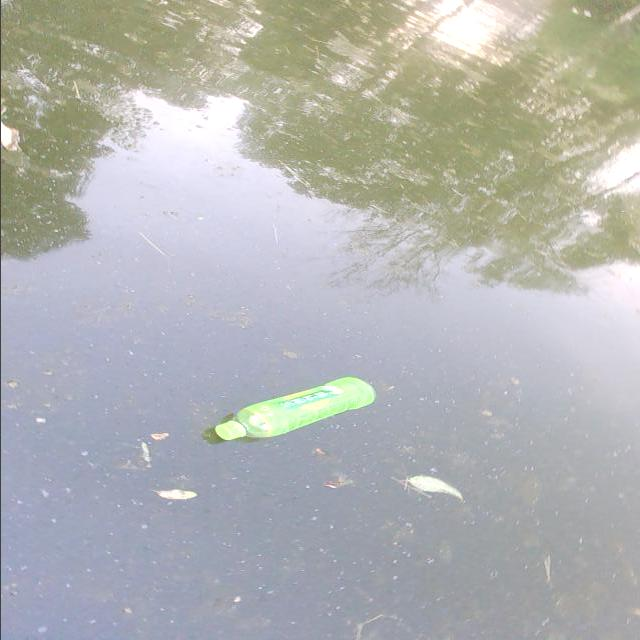bottle: (200, 362, 396, 452)
